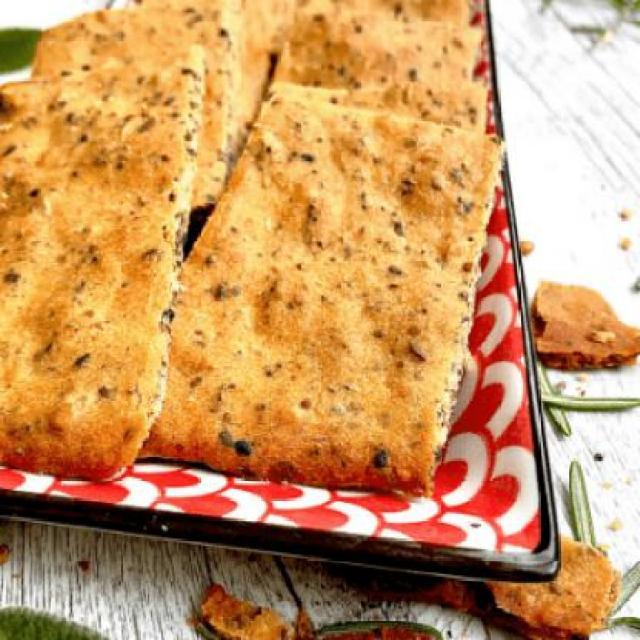Cracker packaged: (128, 90, 510, 502), (5, 55, 209, 498)
